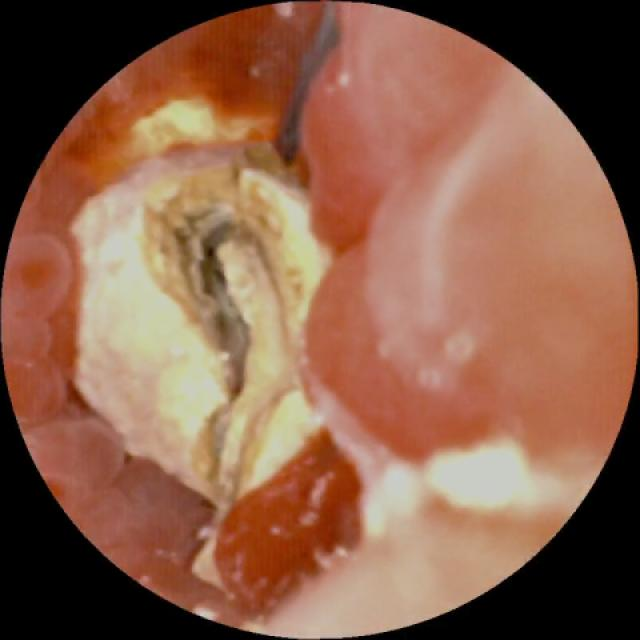stone: (73, 144, 531, 589), (124, 93, 272, 161)
